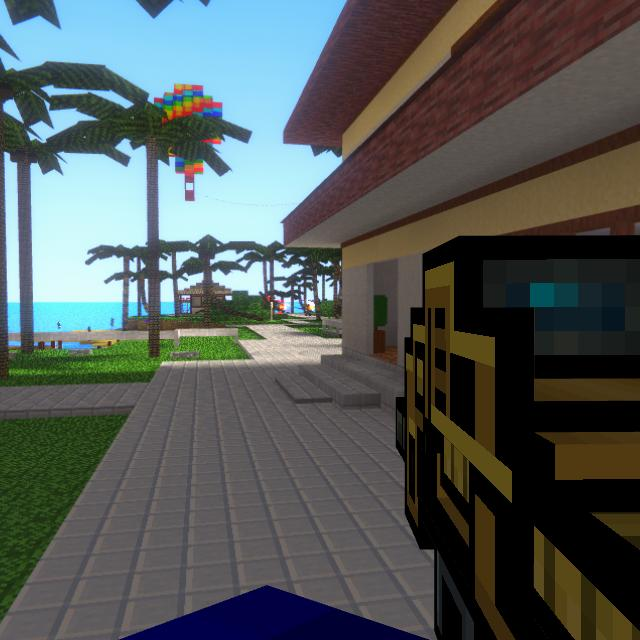Enemy: (278, 302, 284, 312)
